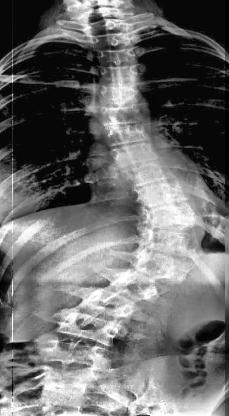Vertebrae: (131, 246, 199, 284), (53, 312, 123, 348), (109, 268, 173, 304), (139, 224, 206, 258), (80, 287, 142, 323), (146, 196, 206, 230), (134, 176, 192, 209), (121, 159, 176, 189), (99, 98, 150, 127), (109, 142, 161, 170), (102, 122, 149, 148), (98, 84, 142, 108), (96, 44, 138, 66), (84, 15, 134, 33), (90, 30, 134, 50), (100, 63, 138, 86)
